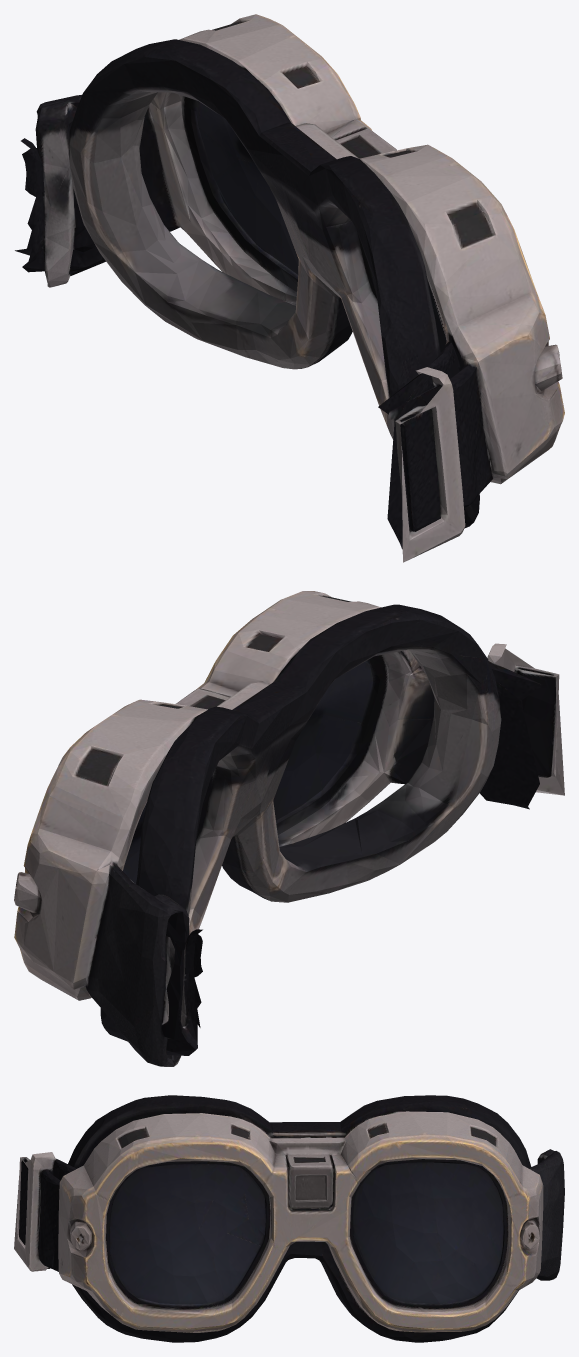
Rendered from Goggles_Common_01_Optimized.glb.
The picture shows the model from 3 angles, top to bottom: view 1: azimuth 30°, elevation 25°; view 2: azimuth 150°, elevation 25°; view 3: azimuth 270°, elevation 25°; orthographic projection. The views are drawn at different scales.
Parts seen in each view (by area): view 1: EXPORT_Goggles_Common_01; view 2: EXPORT_Goggles_Common_01; view 3: EXPORT_Goggles_Common_01.
Boxes of the visible parts, x1,y1,x2,y2 form: EXPORT_Goggles_Common_01: (15,14,564,562); EXPORT_Goggles_Common_01: (14,591,564,1066); EXPORT_Goggles_Common_01: (14,1095,564,1342).
Bounding box in the file's own units: 0.1019 × 0.13 × 0.2907.
Materials: 1 (1 with a texture image).
